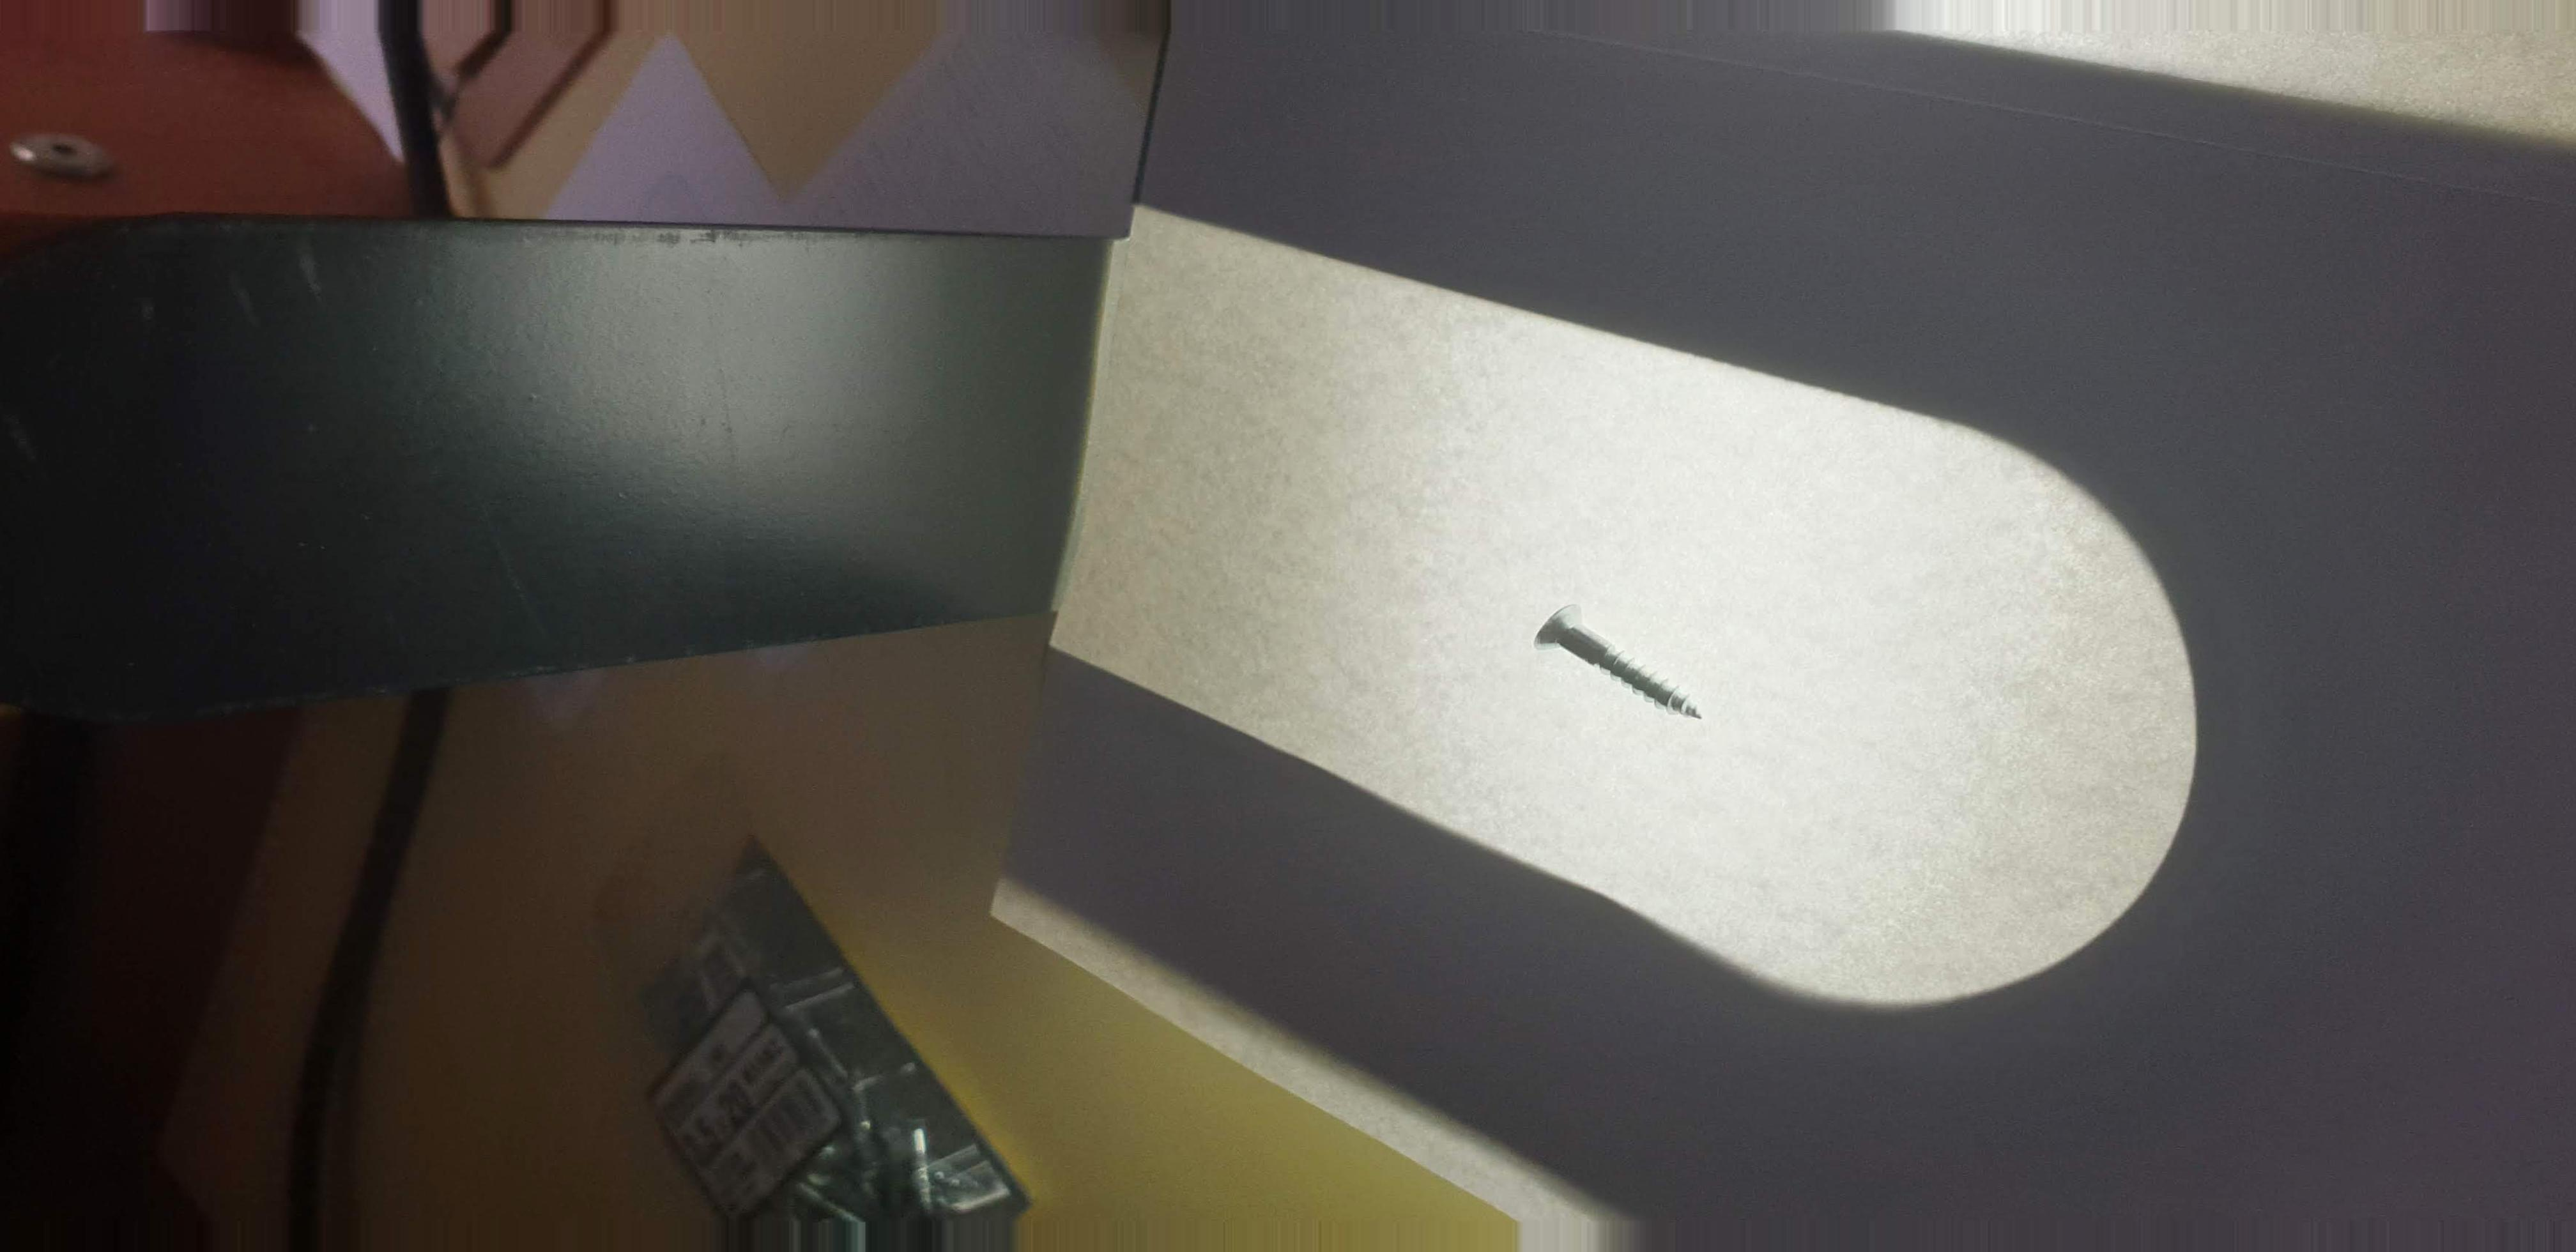S005: (1513, 578, 1741, 744)
